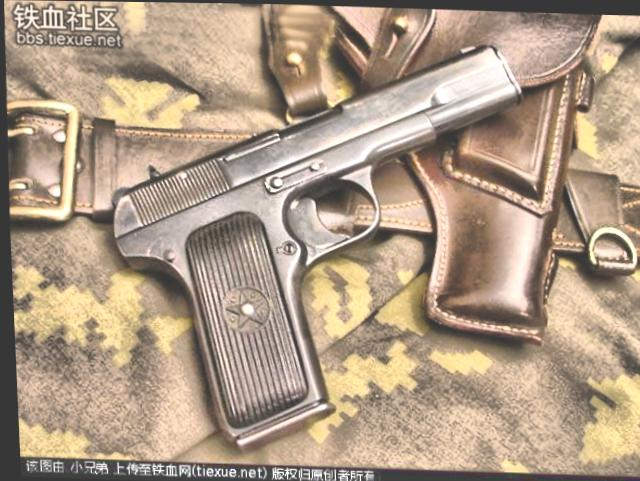pistol: (89, 25, 536, 456)
